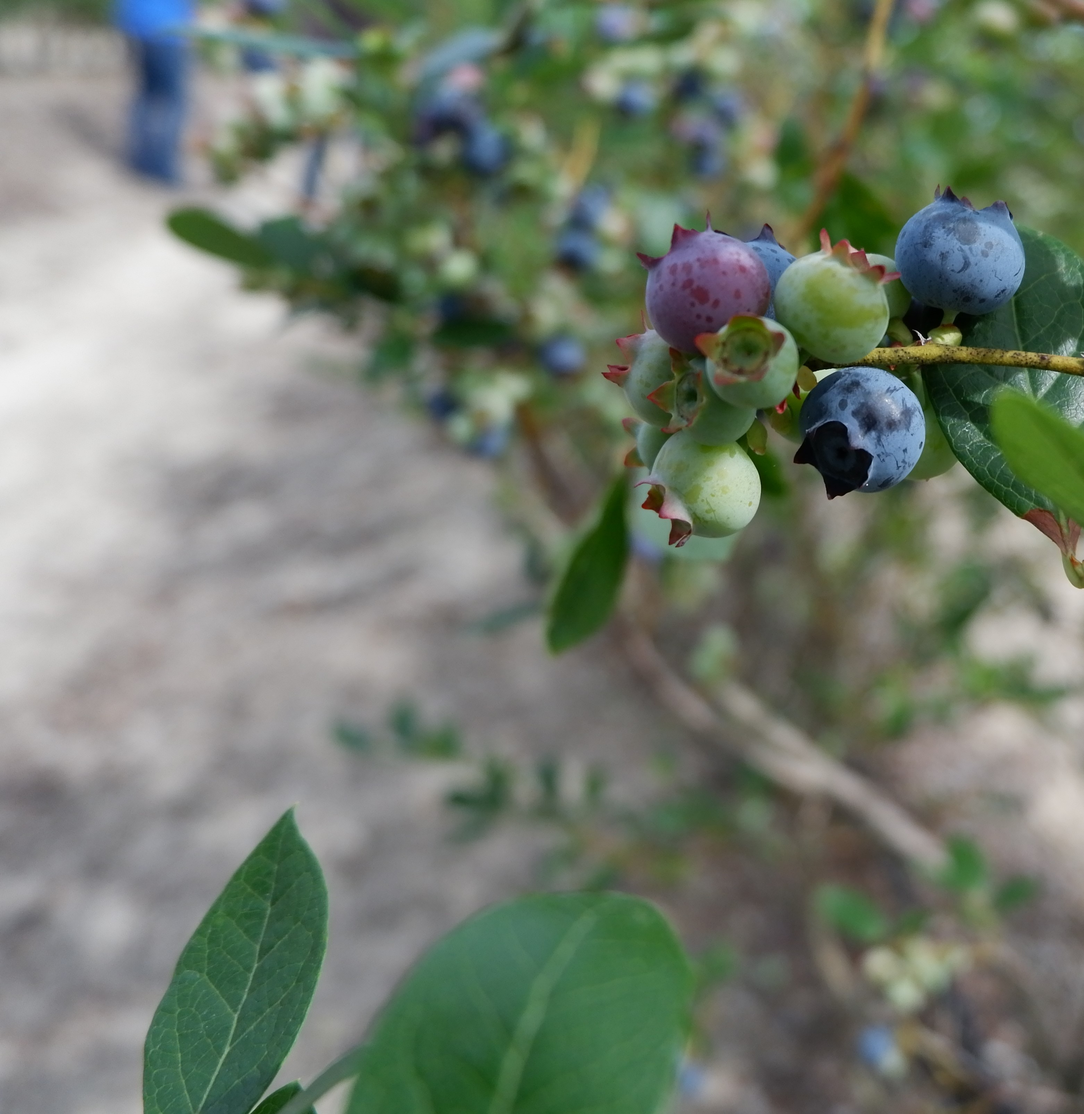Immature: (646, 224, 767, 347), (777, 236, 888, 360), (634, 433, 759, 538), (646, 347, 753, 443), (707, 316, 799, 406), (608, 331, 673, 425), (908, 398, 956, 481), (868, 254, 909, 316), (628, 419, 672, 467)
Mature: (894, 187, 1023, 311), (801, 369, 922, 491), (749, 223, 795, 314)
